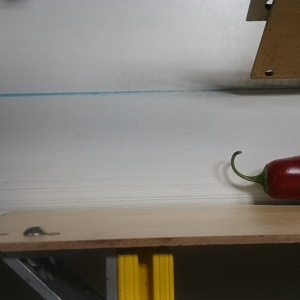Cut Point: (254, 159, 283, 202)
